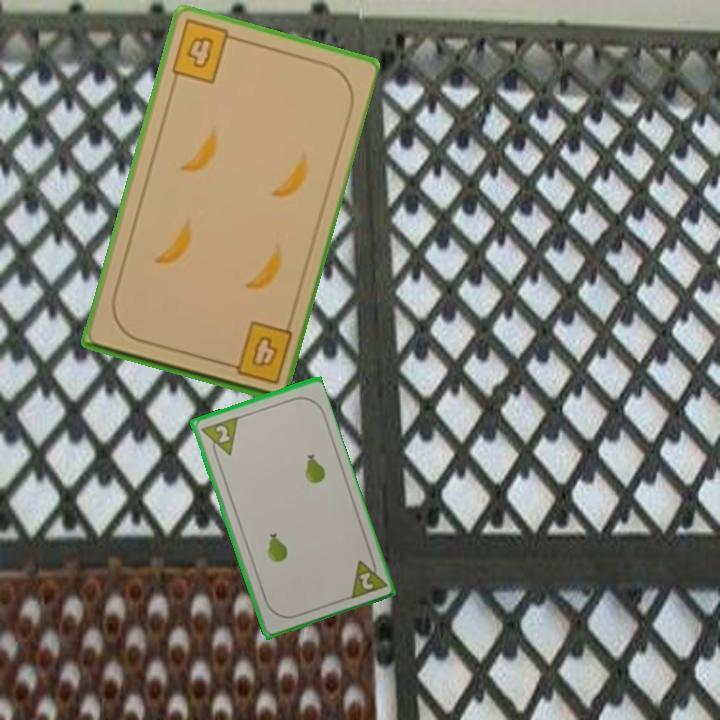2p: (345, 551, 388, 602), (197, 413, 240, 462)
4b: (219, 318, 295, 388), (167, 17, 241, 87)
